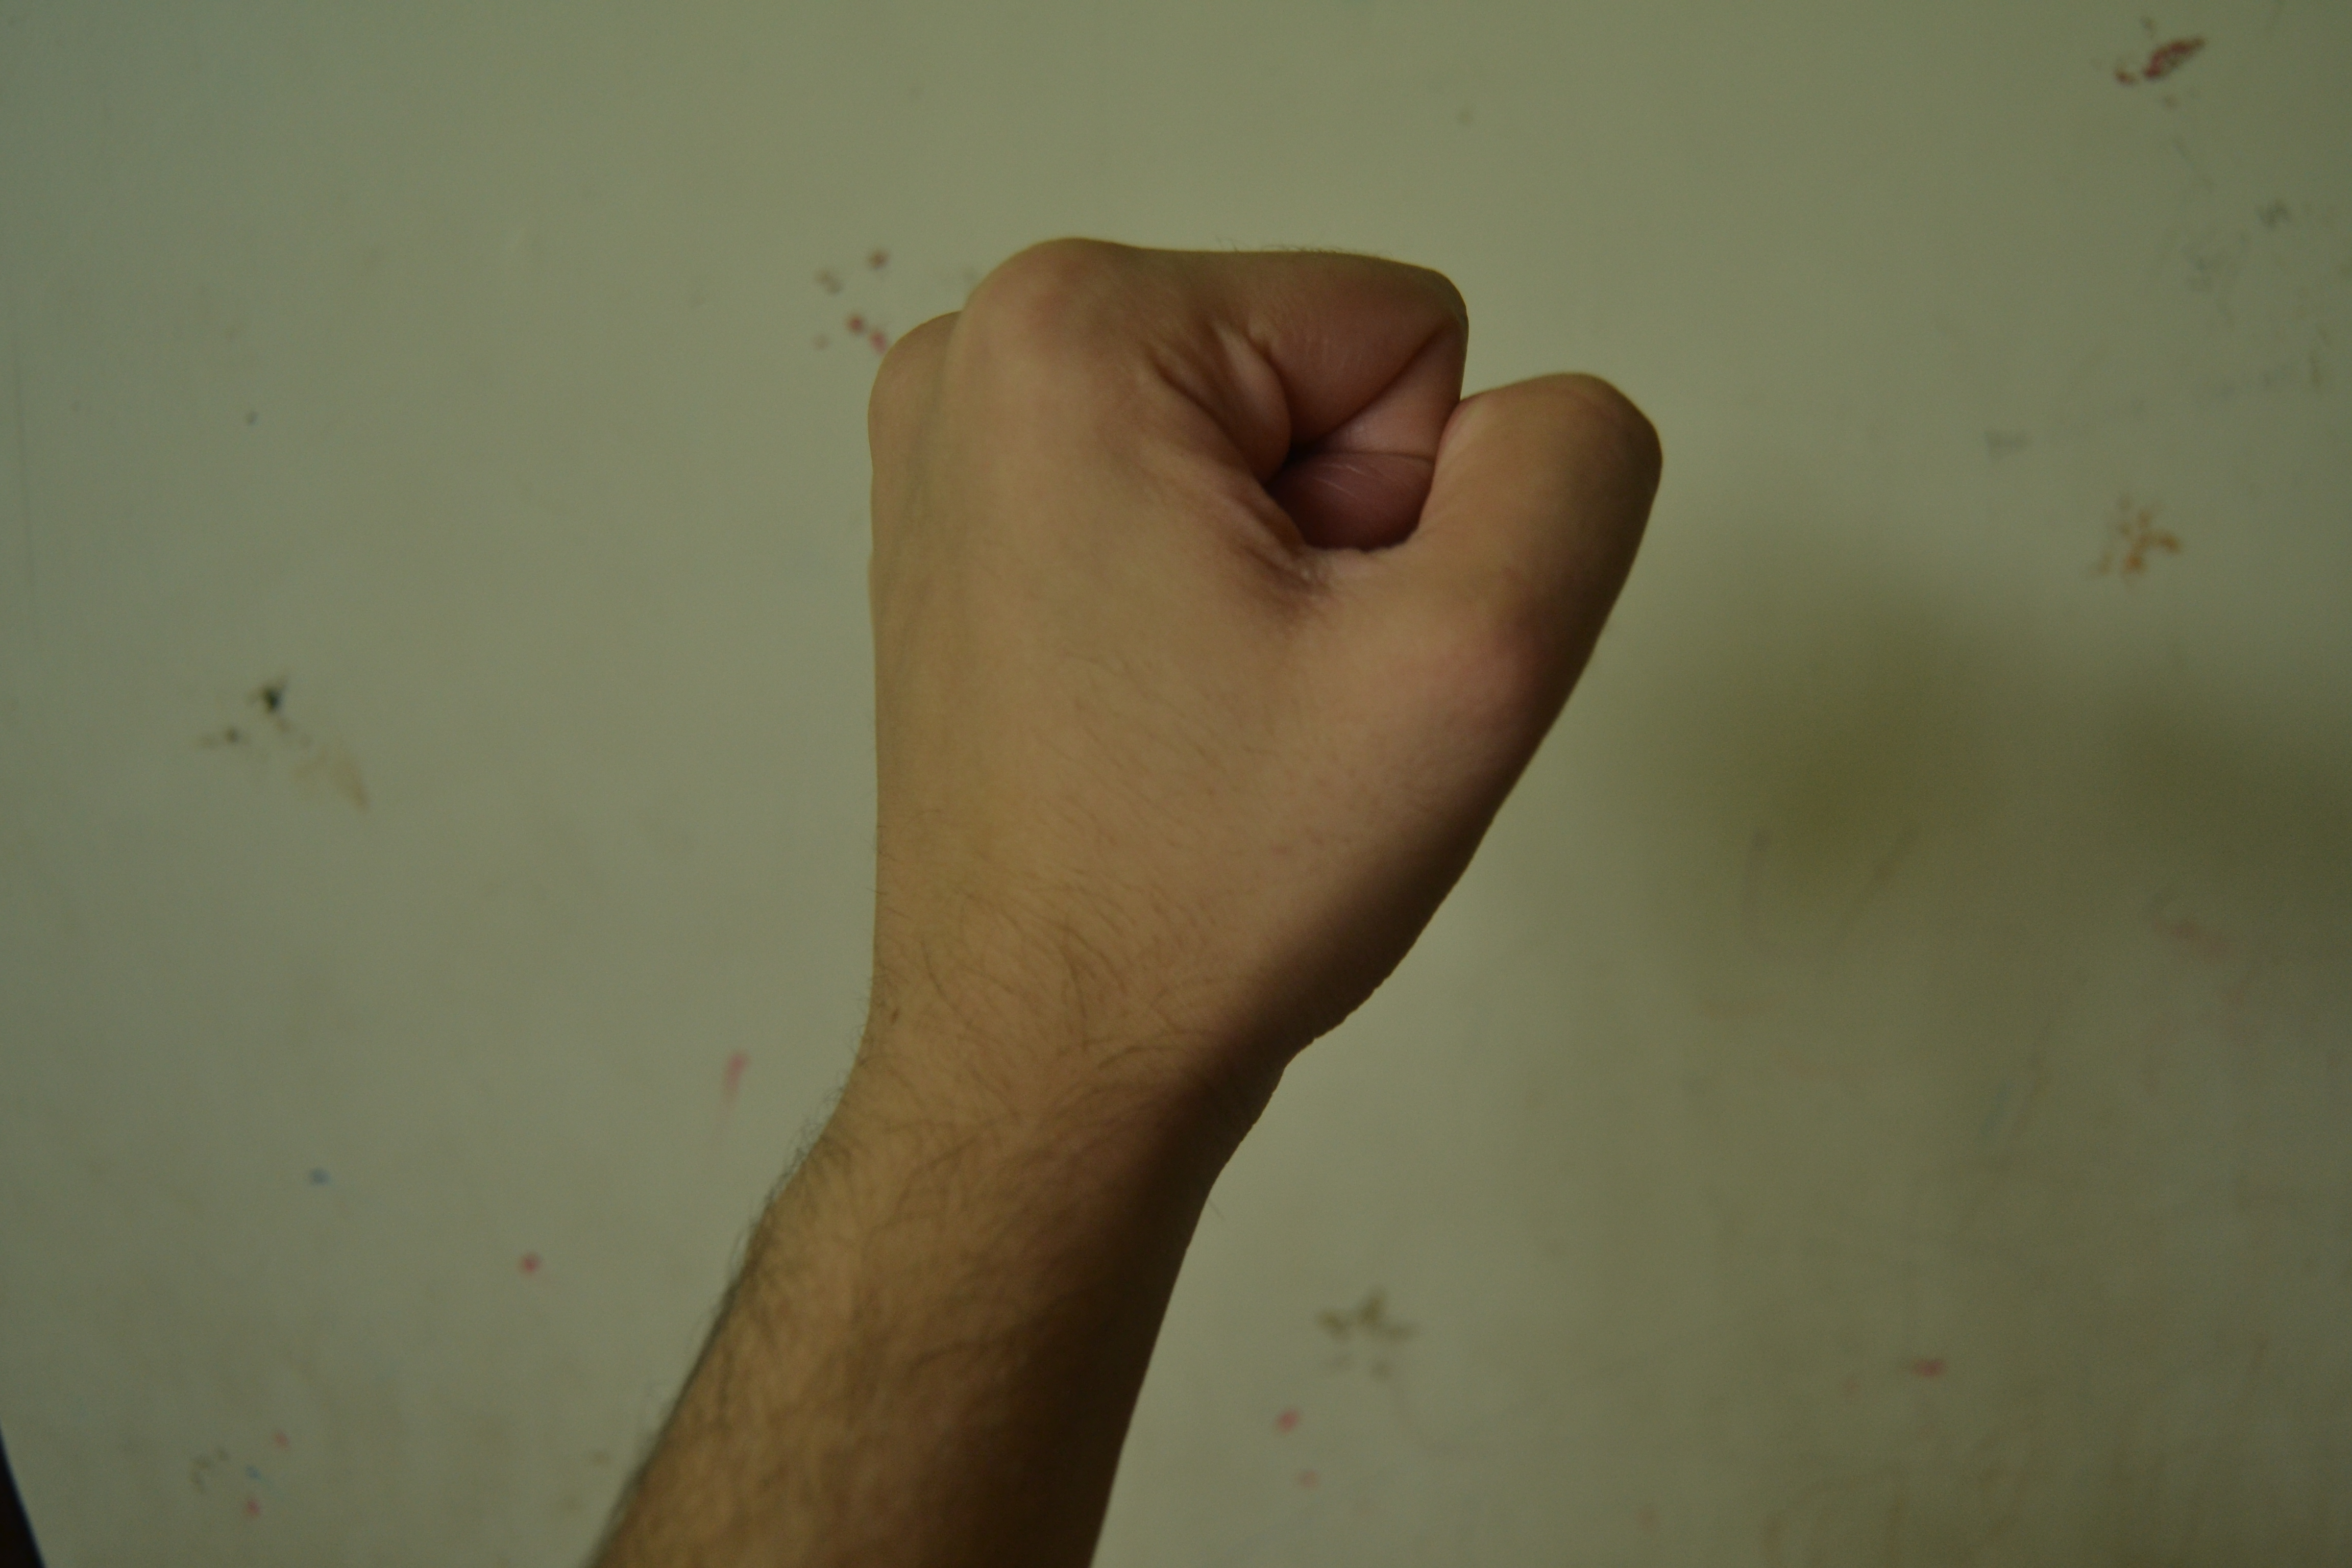click: (747, 234, 1652, 1484)
